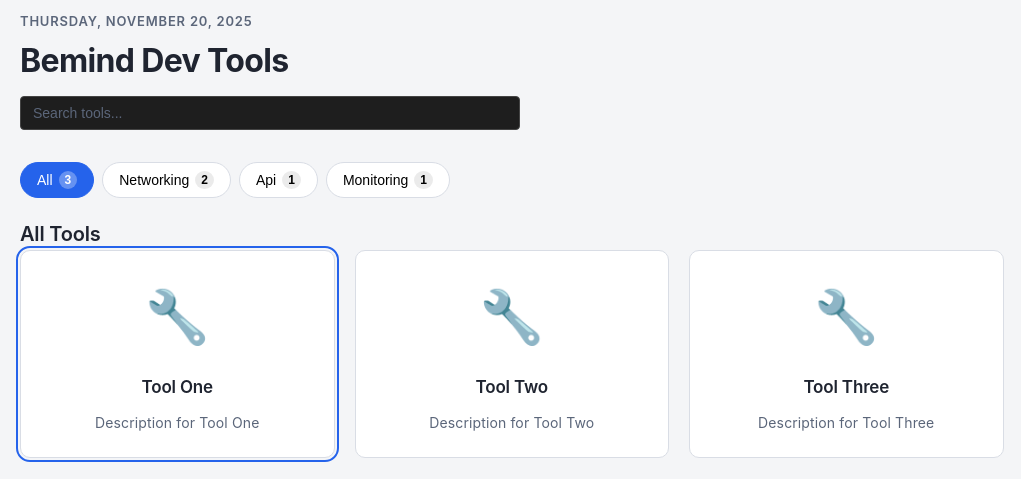
Test case: HomePage Component › Category Filter Integration › should combine search and category filters
Filter by category
Click the button "Networking 2" at (167, 180), box [102,162,231,198]
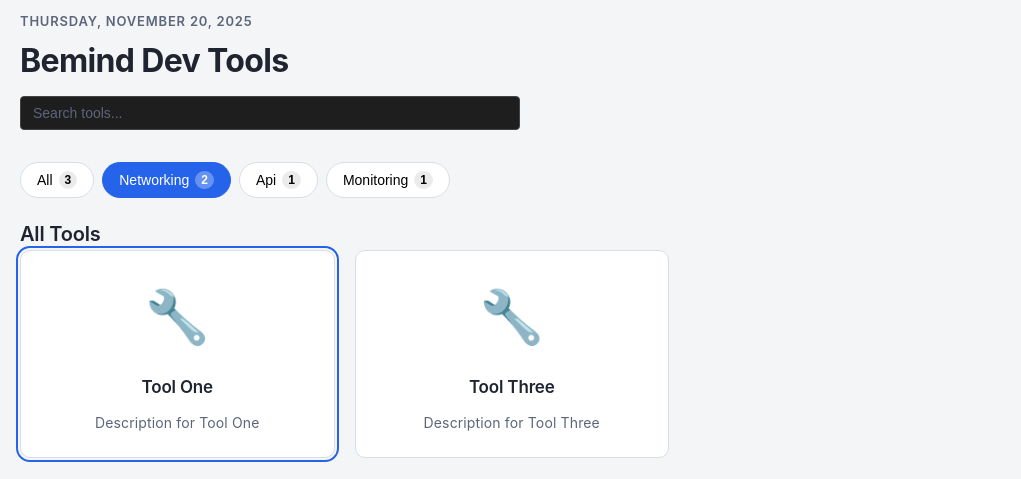
Then search
Type "Tool One" into the field with placeholder "Search tools..." at (270, 113), box [20,96,520,130]
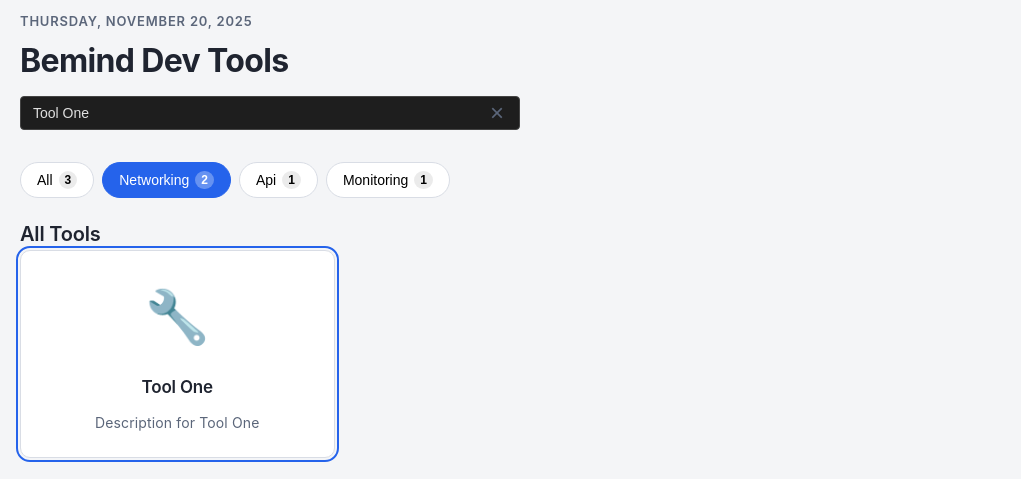
Check: the heading "Tool One" is shown, box [142,376,213,398]
Check: the button "Tool Three" is gone
